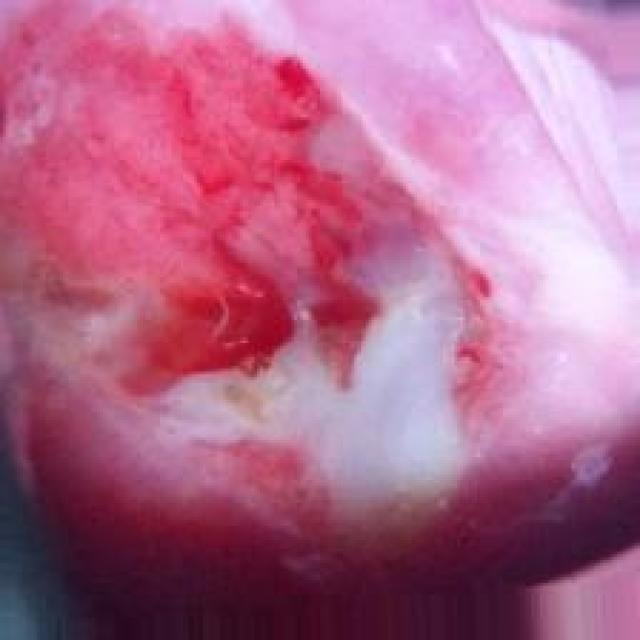type-1: (0, 0, 605, 547)
